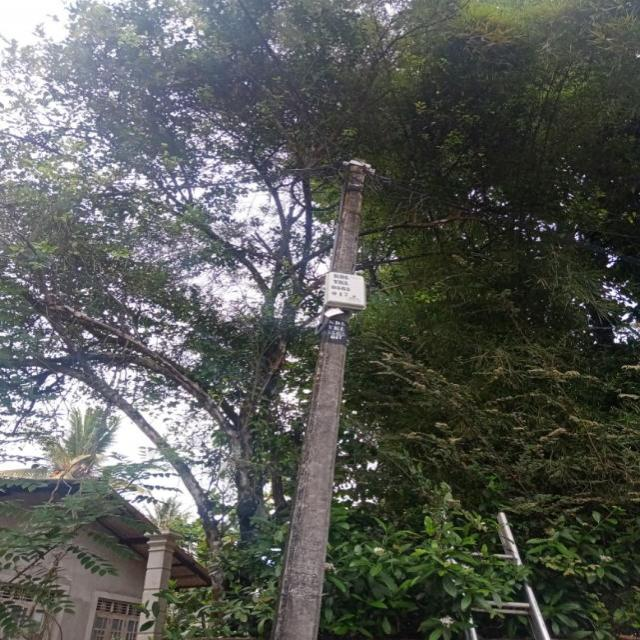light_pole: (264, 147, 377, 640)
